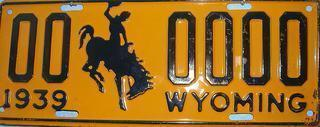placa de veiculo: (2, 0, 320, 127)
